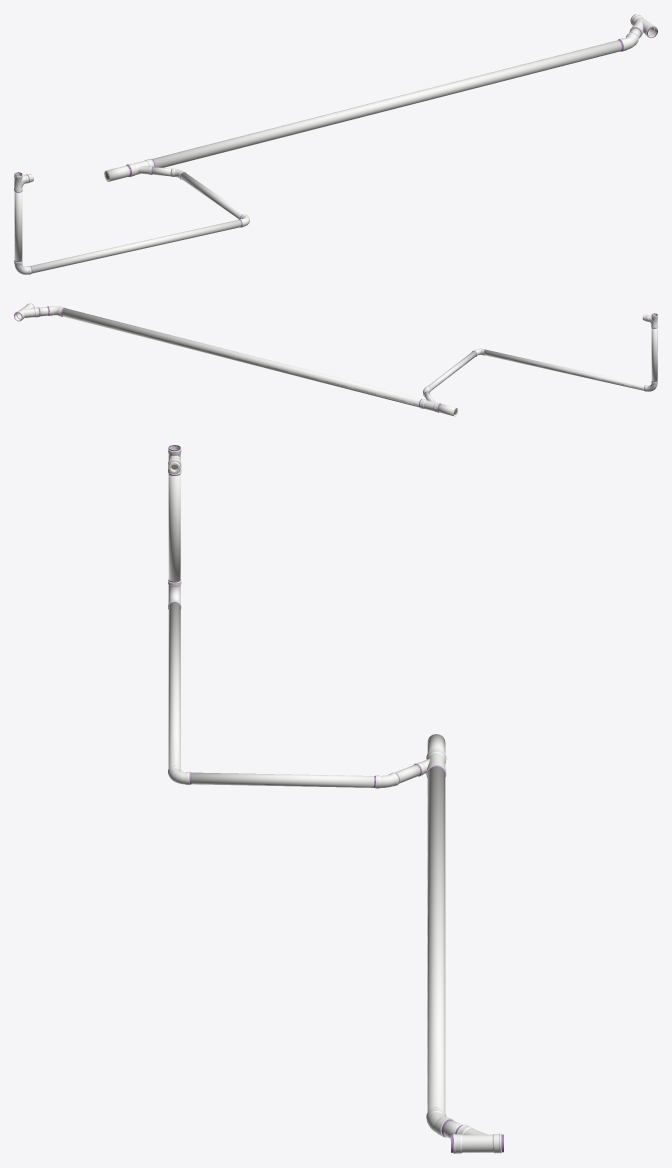
Rendered from slab_pipes_dwv__sewer__20c39a35.glb.
The picture shows the model from 3 angles, top to bottom: view 1: azimuth 30°, elevation 25°; view 2: azimuth 150°, elevation 25°; view 3: azimuth 270°, elevation 25°; orthographic projection. The views are drawn at different scales.
Visible parts, largest first — view 1: pipe_dwv_building_drain_west, pipe_dwv_kitchen, fit_wye_pipe_dwv_building_drain_west; view 2: pipe_dwv_building_drain_west, pipe_dwv_kitchen, fit_wye_pipe_dwv_building_drain_west, fit_wye_pipe_dwv_kitchen; view 3: pipe_dwv_building_drain_west, pipe_dwv_kitchen, fit_wye_pipe_dwv_building_drain_west.
Part boxes in pixels (x1=…): pipe_dwv_building_drain_west: x1=104, y1=28, x2=640, y2=181; pipe_dwv_kitchen: x1=14, y1=167, x2=249, y2=274; fit_wye_pipe_dwv_building_drain_west: x1=629, y1=14, x2=657, y2=37; pipe_dwv_building_drain_west: x1=39, y1=306, x2=457, y2=416; pipe_dwv_kitchen: x1=423, y1=328, x2=657, y2=400; fit_wye_pipe_dwv_building_drain_west: x1=14, y1=303, x2=40, y2=321; fit_wye_pipe_dwv_kitchen: x1=419, y1=398, x2=440, y2=412; pipe_dwv_building_drain_west: x1=426, y1=734, x2=462, y2=1138; pipe_dwv_kitchen: x1=168, y1=467, x2=420, y2=788; fit_wye_pipe_dwv_building_drain_west: x1=450, y1=1124, x2=503, y2=1153.
Bounding box in the file's own units: 6.54 × 0.9617 × 1.69.
